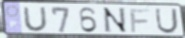6: (78, 7, 99, 34)
7: (50, 6, 72, 33)
F: (129, 8, 153, 34)
N: (102, 7, 130, 34)
U: (22, 7, 50, 33), (154, 8, 179, 35)
